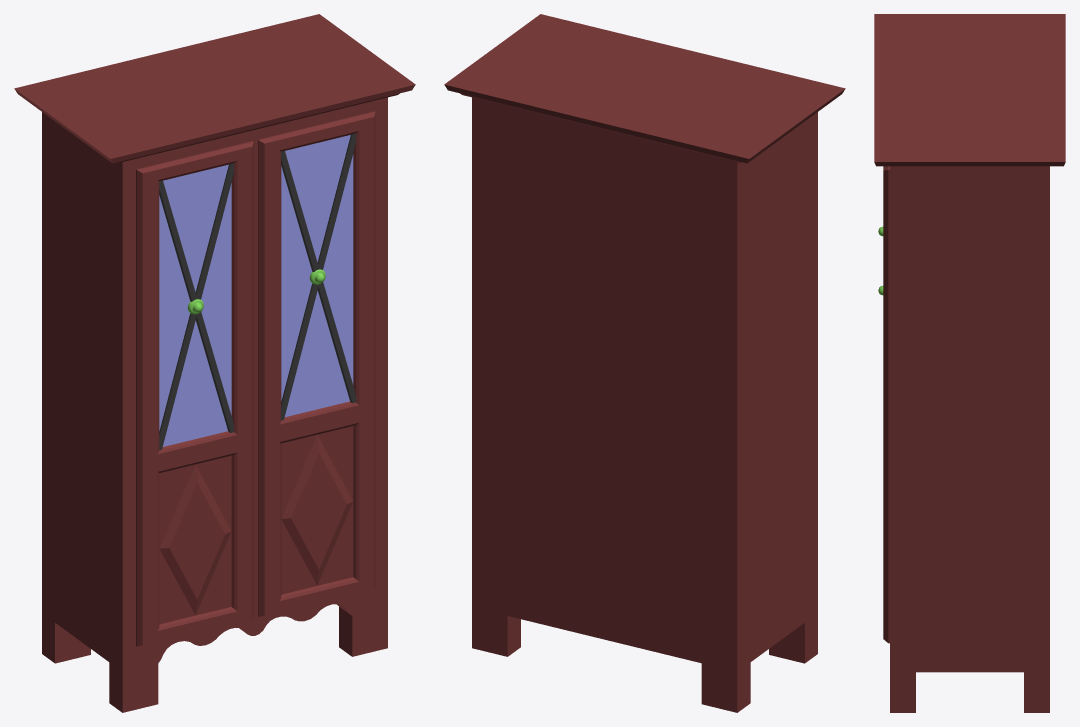
3 renders of one model, left to right at view 1: azimuth 30°, elevation 25°; view 2: azimuth 150°, elevation 25°; view 3: azimuth 270°, elevation 25°, orthographic.
Parts seen in each view (by area): view 1: armario_00_LP_madera_0, armario_00_LP_vidrio_0, armario_00_LP_metal_oscuro_0; view 2: armario_00_LP_madera_0; view 3: armario_00_LP_madera_0.
Part boxes in pixels (bbox=[...]): armario_00_LP_madera_0: bbox=[14, 14, 415, 712]; armario_00_LP_vidrio_0: bbox=[159, 135, 353, 446]; armario_00_LP_metal_oscuro_0: bbox=[159, 133, 355, 450]; armario_00_LP_madera_0: bbox=[444, 14, 845, 712]; armario_00_LP_madera_0: bbox=[874, 14, 1065, 712].
Bounding box in the file's own units: 21.85 × 38.61 × 11.95.
